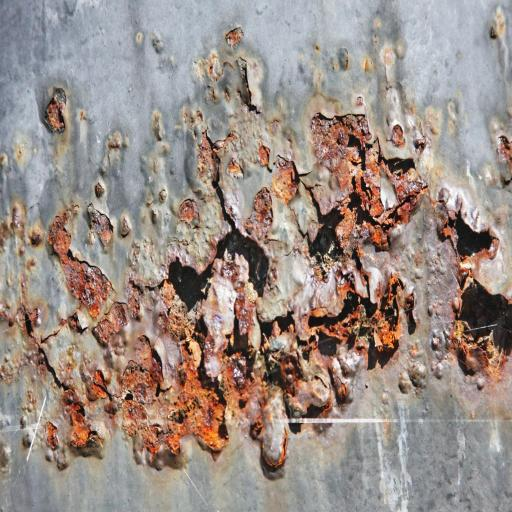segmentation: (0, 115, 511, 464), (198, 129, 219, 187), (87, 203, 113, 247), (44, 88, 66, 133), (496, 135, 512, 165), (179, 199, 199, 223), (225, 26, 243, 49), (391, 124, 405, 147), (227, 158, 243, 178), (238, 57, 248, 87), (259, 145, 270, 165)
